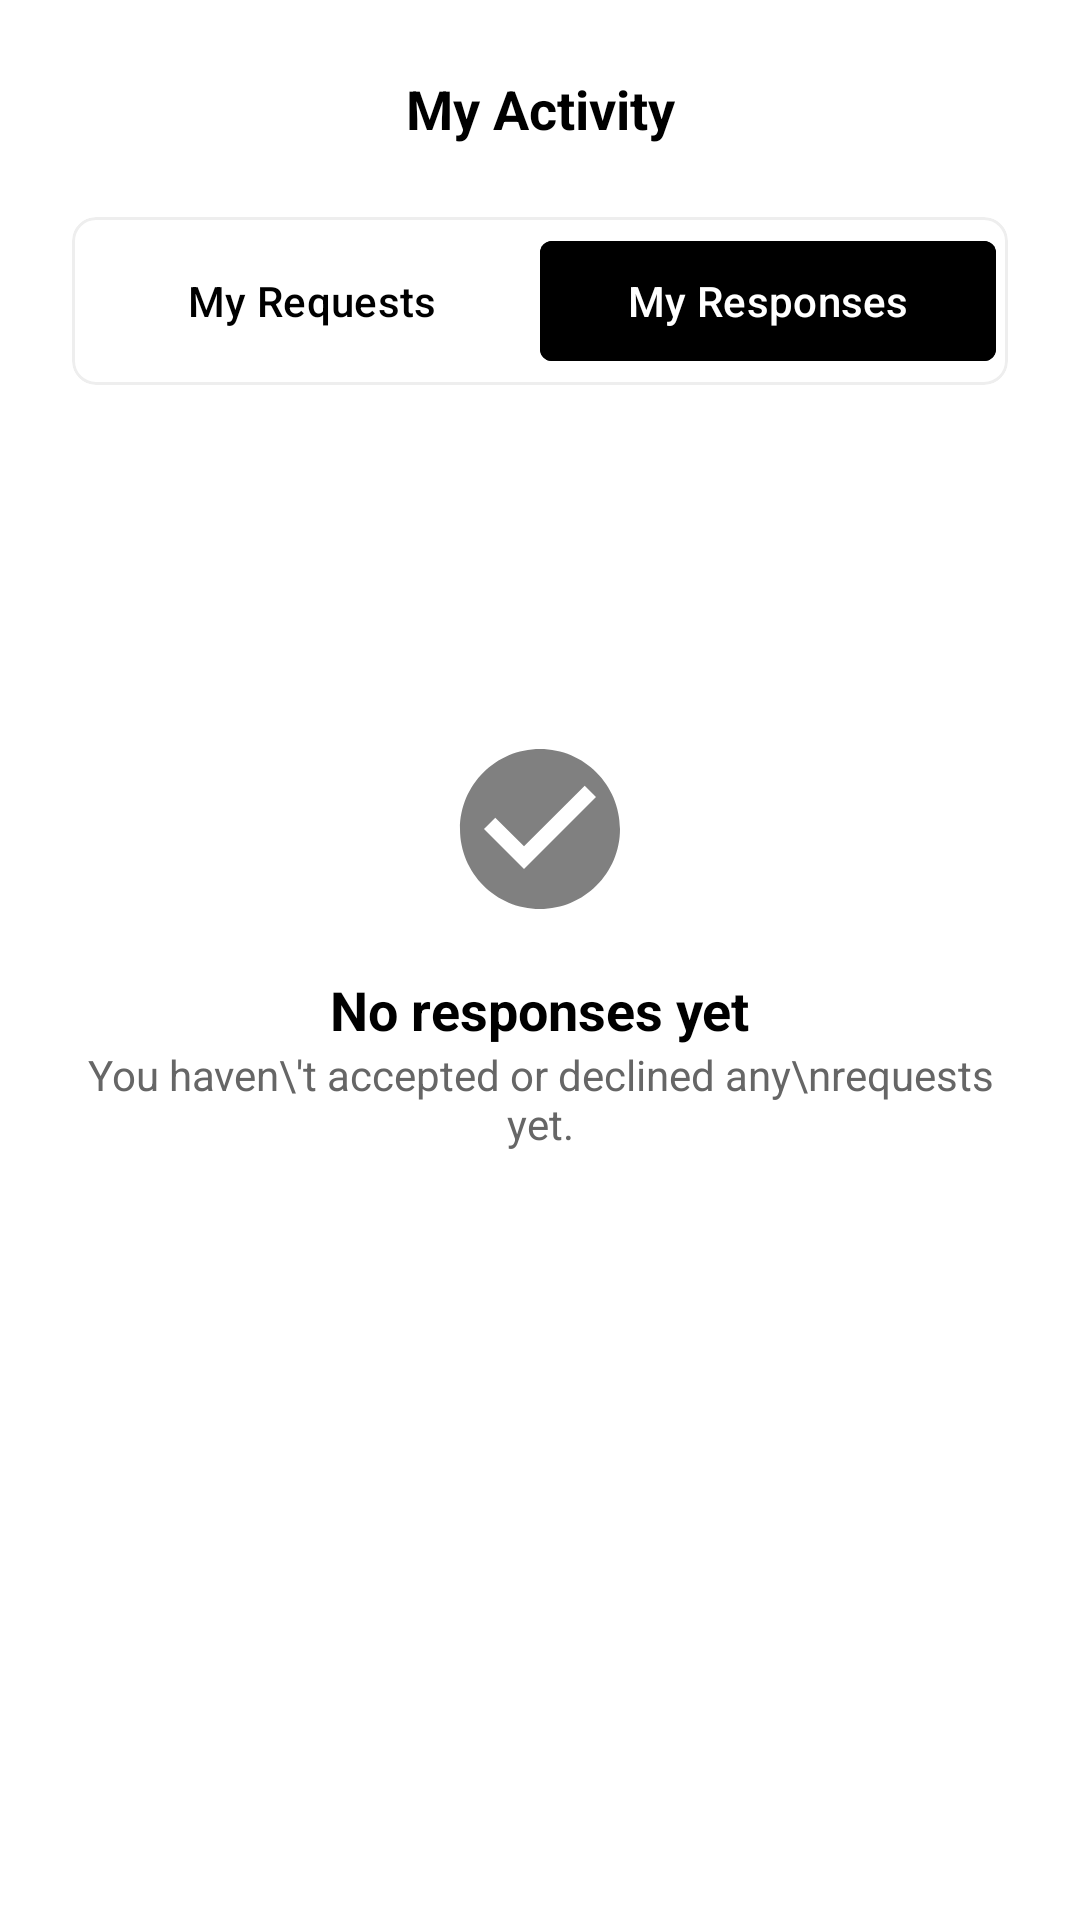

Icons on this 1080 x 1920 Android screen, each with its box as (x1, y1, x2, y2):
check circle: (460, 749, 620, 909)
